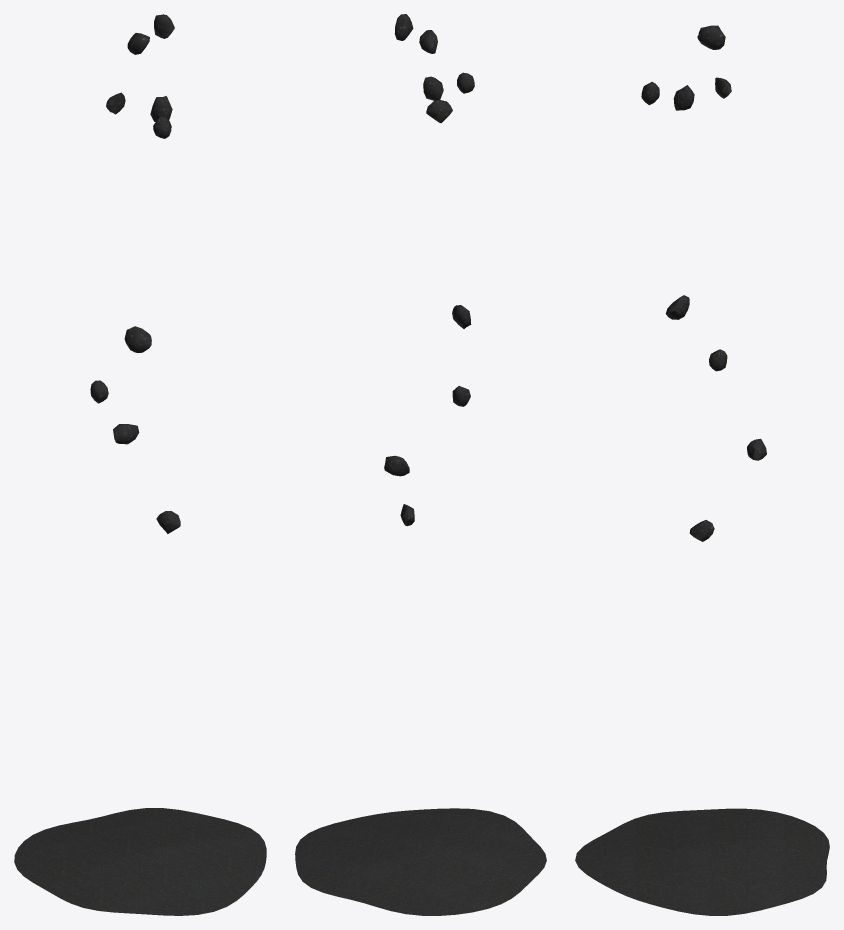
The model's file is PAV-ASF-004_anim.glb.
The picture shows the model from 3 angles, left to right: view 1: azimuth 30°, elevation 25°; view 2: azimuth 150°, elevation 25°; view 3: azimuth 270°, elevation 25°; orthographic projection.
Parts seen in each view (by area): view 1: PAV-ASF-004_anim_monte, PAV-ASF-004_anim_t3; view 2: PAV-ASF-004_anim_monte; view 3: PAV-ASF-004_anim_monte, PAV-ASF-004_anim_t7.
Part boxes in pixels (x1,y1,x2,y2): PAV-ASF-004_anim_monte: [14, 808, 266, 915]; PAV-ASF-004_anim_t3: [124, 326, 151, 352]; PAV-ASF-004_anim_monte: [295, 808, 546, 915]; PAV-ASF-004_anim_monte: [575, 808, 829, 915]; PAV-ASF-004_anim_t7: [697, 25, 725, 49].
Size of the model in its own units: 0.4278 by 1.57 by 0.429.
1 material, 1 textured.
